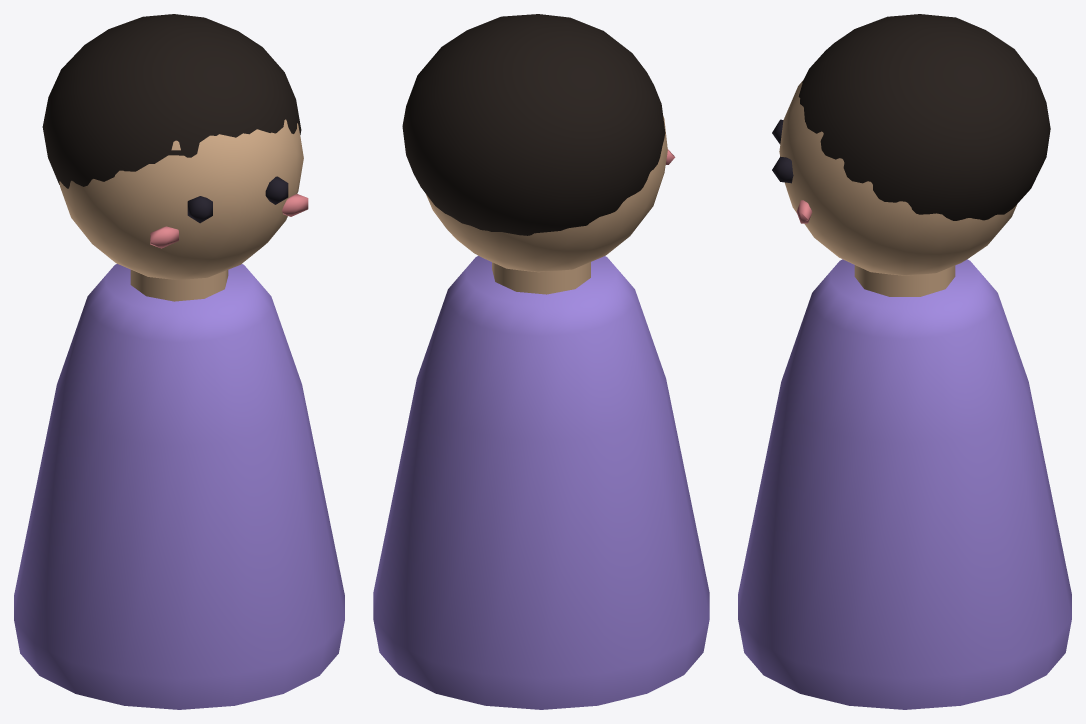
The model's file is person_guest_a.fbx.
3 renders of one model, left to right at view 1: azimuth 30°, elevation 25°; view 2: azimuth 150°, elevation 25°; view 3: azimuth 270°, elevation 25°, orthographic.
Parts seen in each view (by area): view 1: Body, Head; view 2: Body, Head; view 3: Body, Head.
Boxes of the visible parts, x1=… form: Body: x1=14, y1=264, x2=344, y2=709; Head: x1=42, y1=14, x2=308, y2=279; Body: x1=373, y1=256, x2=709, y2=709; Head: x1=402, y1=14, x2=675, y2=272; Body: x1=738, y1=259, x2=1071, y2=709; Head: x1=772, y1=14, x2=1050, y2=275.
Bounding box in the file's own units: 0.27 × 0.5394 × 0.2659.
